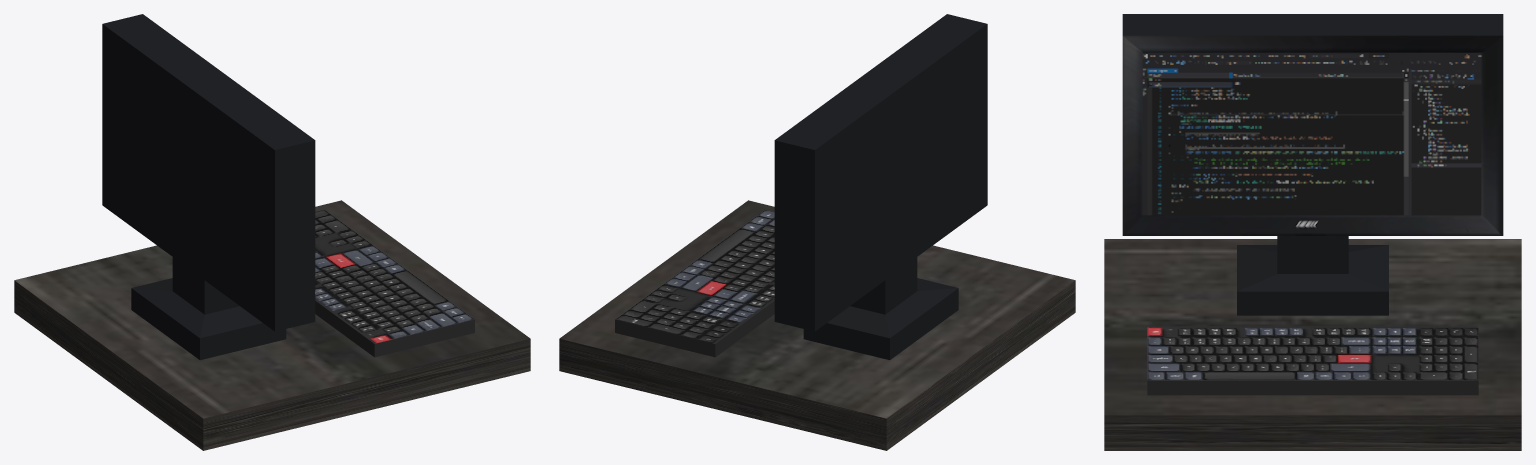
File: Computer.fbx
The picture shows the model from 3 angles, left to right: view 1: azimuth 30°, elevation 25°; view 2: azimuth 150°, elevation 25°; view 3: azimuth 270°, elevation 25°; orthographic projection. The views are drawn at different scales.
Parts seen in each view (by area): view 1: Computer, Desk, Keyboard; view 2: Computer, Desk, Keyboard; view 3: Computer, Desk, Keyboard.
Part boxes in pixels (left/top/right/bottom): Computer: left=102, top=14, right=315, bottom=360; Desk: left=14, top=200, right=530, bottom=450; Keyboard: left=315, top=209, right=474, bottom=357; Computer: left=774, top=14, right=987, bottom=360; Desk: left=559, top=200, right=1075, bottom=450; Keyboard: left=615, top=209, right=774, bottom=357; Computer: left=1122, top=14, right=1503, bottom=315; Desk: left=1104, top=239, right=1521, bottom=450; Keyboard: left=1147, top=326, right=1478, bottom=395.
Size of the model in its own units: 200 by 161 by 200.
3 materials, 3 textured.
